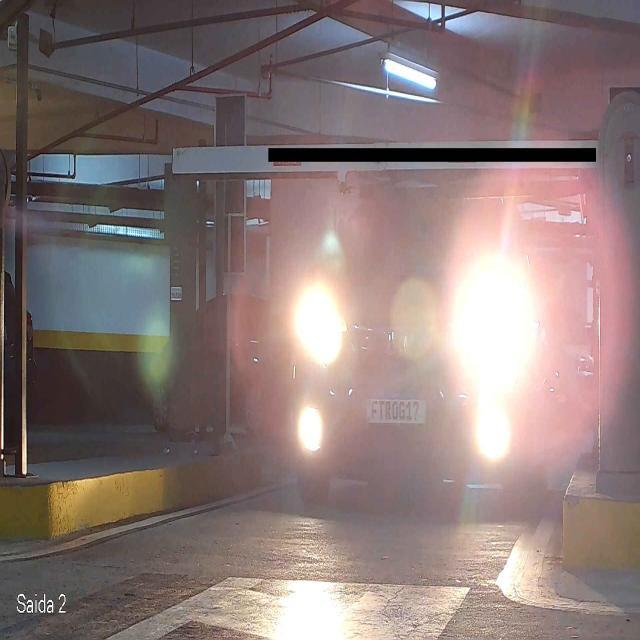mercosul_plate: (363, 389, 430, 427)
